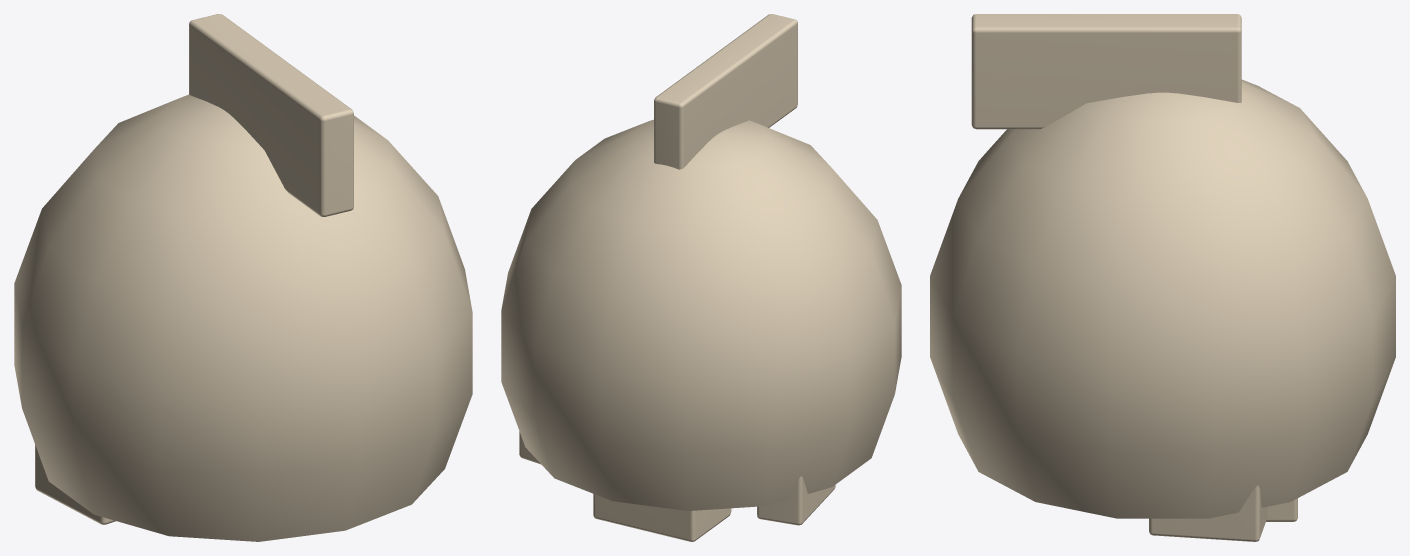
File: kitbash_shell_head_001.glb
3 renders of one model, left to right at view 1: azimuth 30°, elevation 25°; view 2: azimuth 150°, elevation 25°; view 3: azimuth 270°, elevation 25°, orthographic. The views are drawn at different scales.
Parts seen in each view (by area): view 1: SHELL_head; view 2: SHELL_head; view 3: SHELL_head.
Part boxes in pixels (bbox=[...]): SHELL_head: bbox=[14, 14, 472, 541]; SHELL_head: bbox=[501, 14, 901, 541]; SHELL_head: bbox=[930, 14, 1395, 541].
Size of the model in its own units: 0.4032 by 0.465 by 0.4136.
